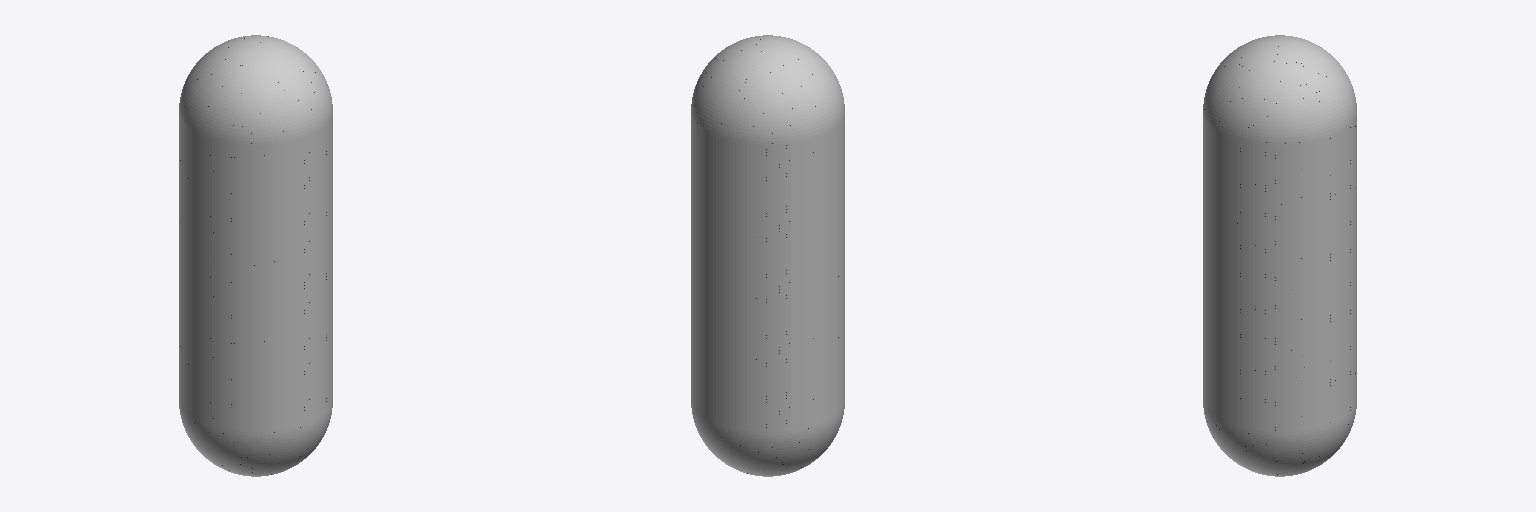
3 renders of one model, left to right at view 1: azimuth 30°, elevation 25°; view 2: azimuth 150°, elevation 25°; view 3: azimuth 270°, elevation 25°, orthographic.
Parts seen in each view (by area): view 1: Body7; view 2: Body7; view 3: Body7.
Boxes of the visible parts, box(x1,y1,x2,y2) form: Body7: box(179, 35, 332, 476); Body7: box(691, 35, 844, 476); Body7: box(1203, 35, 1356, 476).
Size of the model in its own units: 458 by 1400 by 458.
Materials: 1 (1 with a texture image).